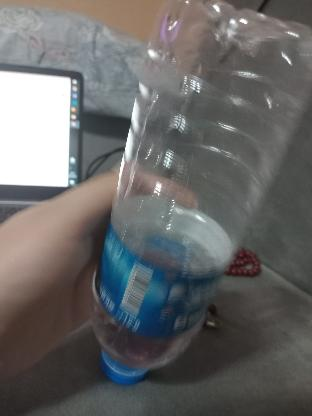Plastic Bottle: (92, 0, 312, 395)
